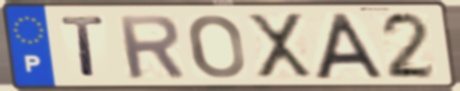2: (380, 10, 437, 81)
A: (311, 11, 388, 81)
O: (185, 12, 248, 81)
R: (114, 13, 188, 81)
T: (58, 14, 109, 80)
X: (244, 11, 316, 82)
